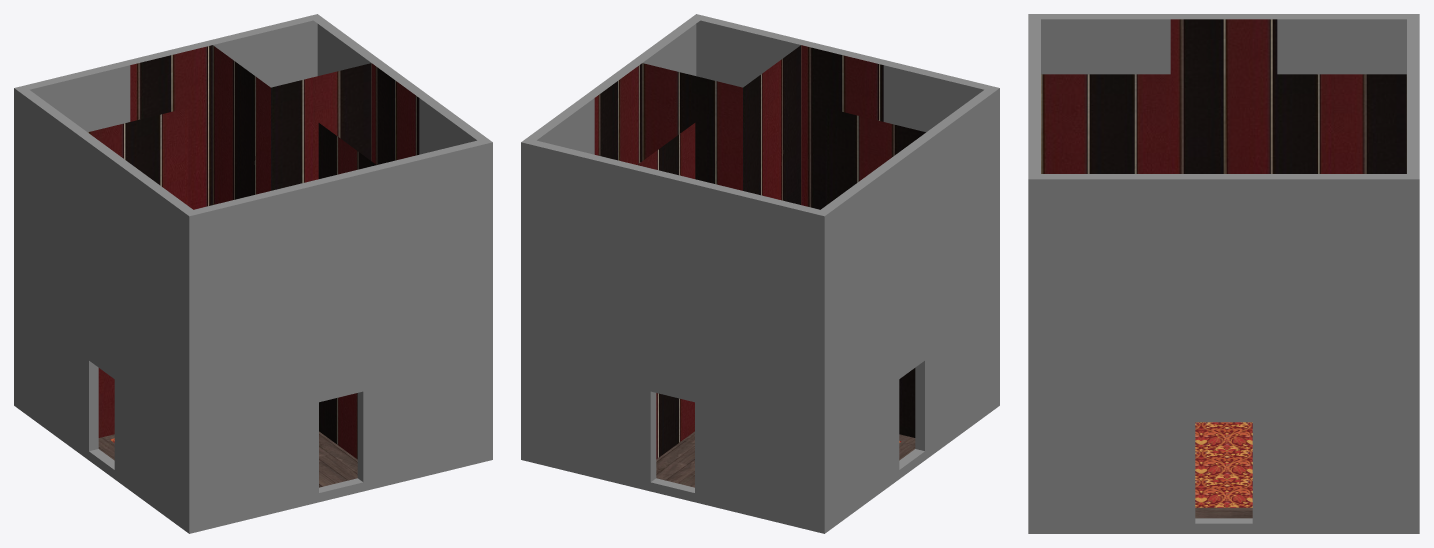
Rendered from Dusty_Hallway.FBX.
3 views of the same model, side by side, from view 1: azimuth 30°, elevation 25°; view 2: azimuth 150°, elevation 25°; view 3: azimuth 270°, elevation 25° (orthographic). The views are drawn at different scales.
Parts seen in each view (by area): view 1: Dusty_Hallway; view 2: Dusty_Hallway; view 3: Dusty_Hallway.
Part boxes in pixels (box(x1,y1,x2,y2)): Dusty_Hallway: box(14, 14, 492, 533); Dusty_Hallway: box(521, 14, 999, 533); Dusty_Hallway: box(1028, 14, 1419, 533).
Bounding box in the file's own units: 500 × 500 × 500.
